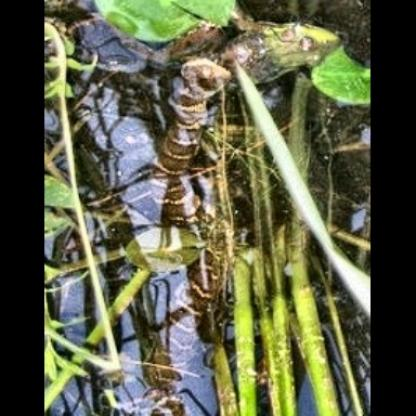Snake: (60, 20, 346, 410)
